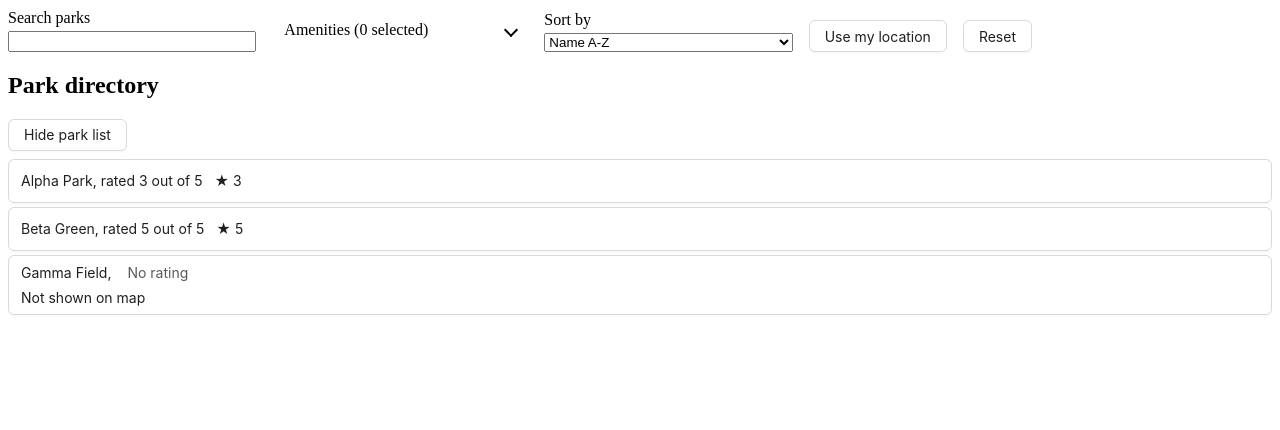
Test: SearchBar › use my location › drops the result when Reset is pressed while waiting
Click the button "Use my location" at (878, 36), box [809,20,947,52]
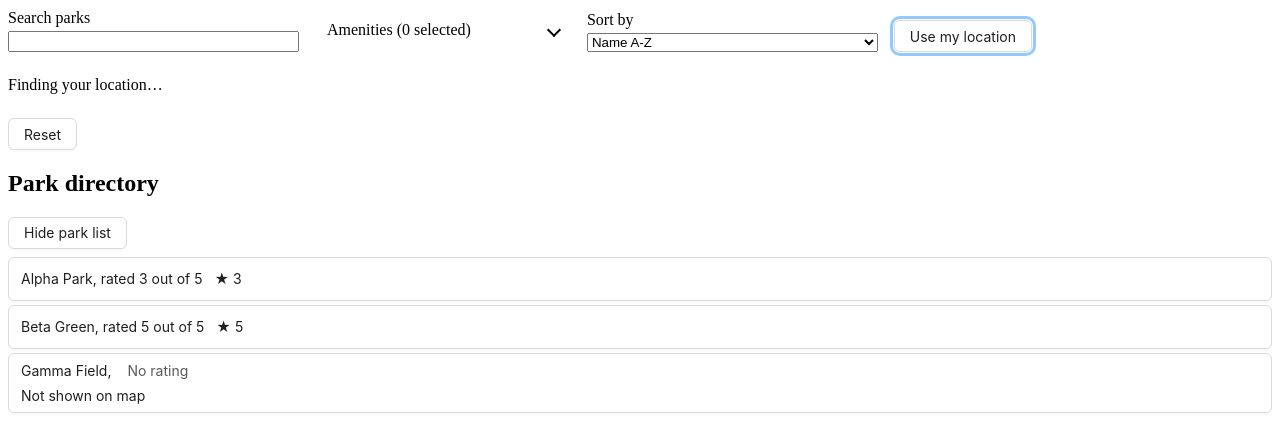
Click the button "Reset" at (43, 134), box [8,118,77,150]
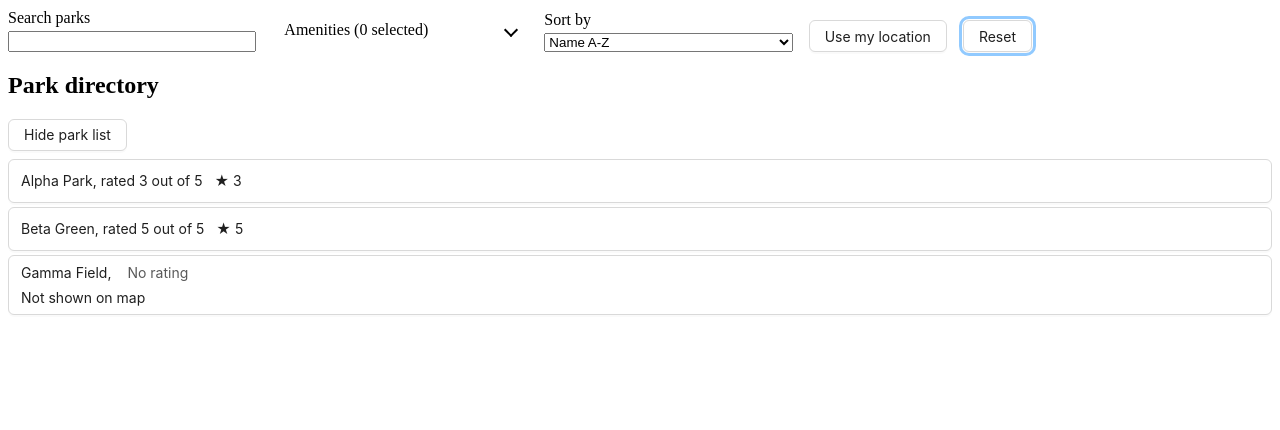
Expected: the button "Use my location" is shown, [809,20,947,52]
Expected: the text "Finding your location…" is gone
